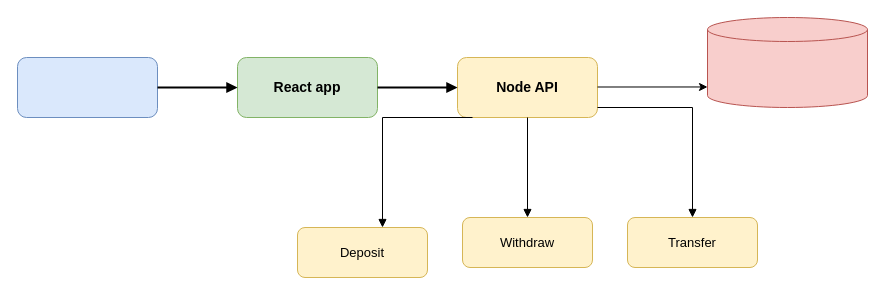
Image size: 885x295. Some labels were removed from this diagram. The shapes that lost their labels are listed below. From the top down, each one's centre as x and y in pixels, then its label:
point (787, 62): MongoDB (banking)
point (87, 87): Customer
